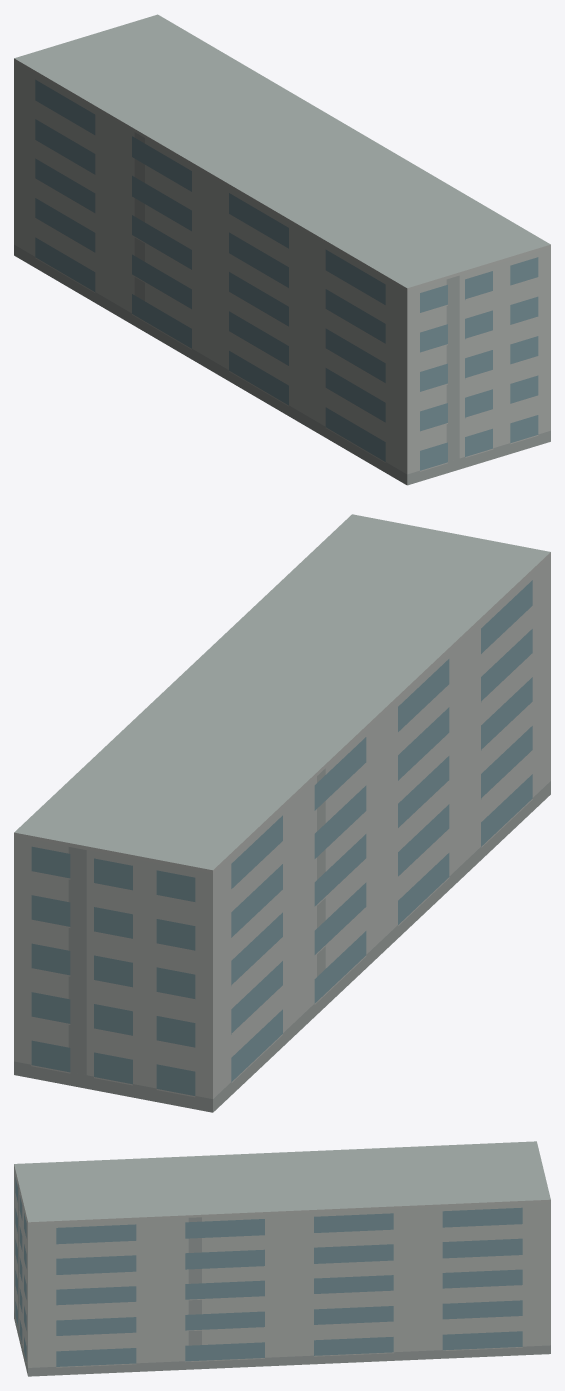
Rendered from residential-48a9491e-9734-4d85-a922-c3515dff98e7.glb.
The picture shows the model from 3 angles, top to bottom: view 1: azimuth 30°, elevation 25°; view 2: azimuth 150°, elevation 25°; view 3: azimuth 270°, elevation 25°; orthographic projection. The views are drawn at different scales.
Visible parts, largest first — view 1: residential-48a9491e-9734-4d85-a922-c3515dff98e7.tmp; view 2: residential-48a9491e-9734-4d85-a922-c3515dff98e7.tmp; view 3: residential-48a9491e-9734-4d85-a922-c3515dff98e7.tmp.
Part boxes in pixels (box(x1,y1,x2,y2)): residential-48a9491e-9734-4d85-a922-c3515dff98e7.tmp: box(14, 14, 550, 485); residential-48a9491e-9734-4d85-a922-c3515dff98e7.tmp: box(14, 514, 550, 1112); residential-48a9491e-9734-4d85-a922-c3515dff98e7.tmp: box(14, 1141, 550, 1376).
Size of the model in its own units: 17.16 by 15.25 by 48.09.
